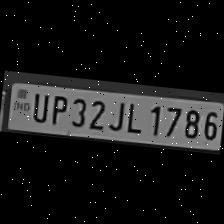1: (142, 100, 163, 136)
2: (84, 95, 107, 131)
3: (66, 93, 88, 128)
6: (198, 106, 220, 142)
7: (159, 102, 182, 138)
8: (180, 104, 202, 140)
J: (105, 96, 127, 133)
L: (121, 98, 144, 134)
P: (46, 89, 68, 125)
U: (28, 88, 50, 123)
